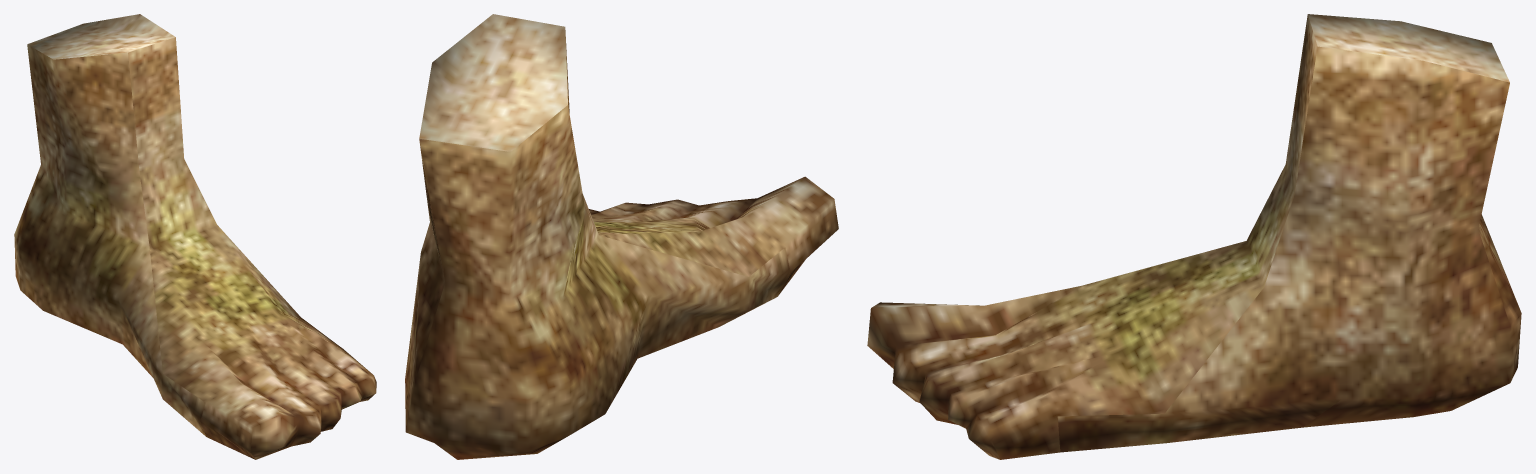
File: general_obj_stoneimage02.glb
3 views of the same model, side by side, from view 1: azimuth 30°, elevation 25°; view 2: azimuth 150°, elevation 25°; view 3: azimuth 270°, elevation 25° (orthographic). The views are drawn at different scales.
Visible parts, largest first — view 1: Sphere01; view 2: Sphere01; view 3: Sphere01.
Part boxes in pixels (left/top/right/bottom): Sphere01: left=14, top=14, right=376, bottom=459; Sphere01: left=405, top=14, right=838, bottom=459; Sphere01: left=867, top=14, right=1521, bottom=459.
Bounding box in the file's own units: 1.75 × 2.62 × 4.17.
1 material, 1 textured.
